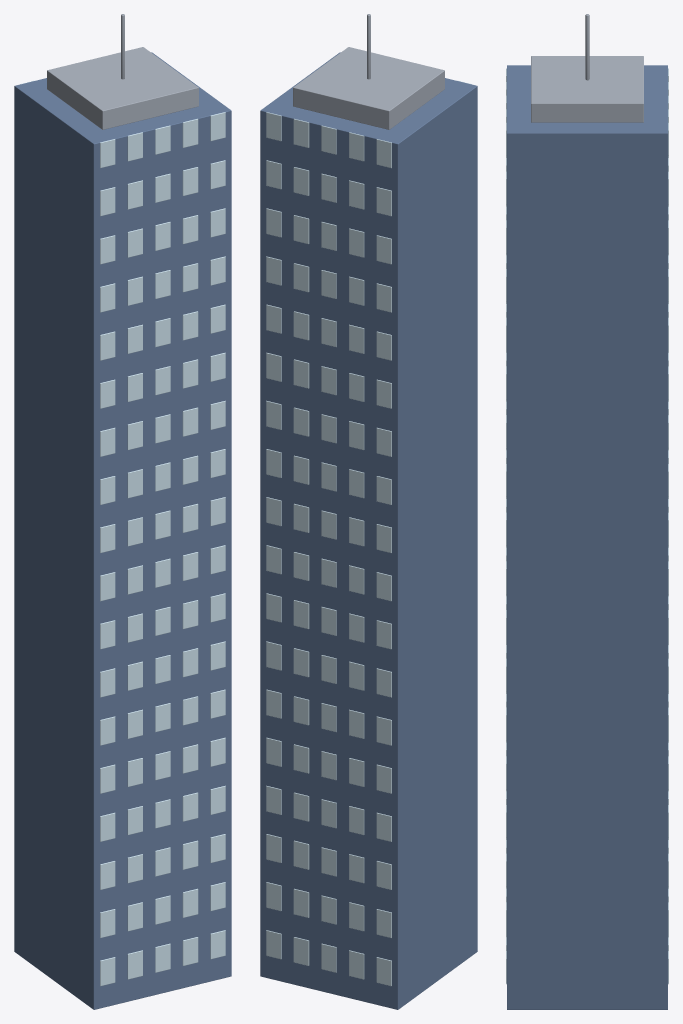
The model's file is skyscraper.glb.
The picture shows the model from 3 angles, left to right: view 1: azimuth 30°, elevation 25°; view 2: azimuth 150°, elevation 25°; view 3: azimuth 270°, elevation 25°; orthographic projection.
Parts seen in each view (by area): view 1: building; view 2: building; view 3: building.
Part boxes in pixels (x1,y1,x2,y2): building: (14, 14, 231, 1009); building: (260, 14, 477, 1009); building: (506, 14, 668, 1009).
Bounding box in the file's own units: 9 × 59.2 × 9.08.
